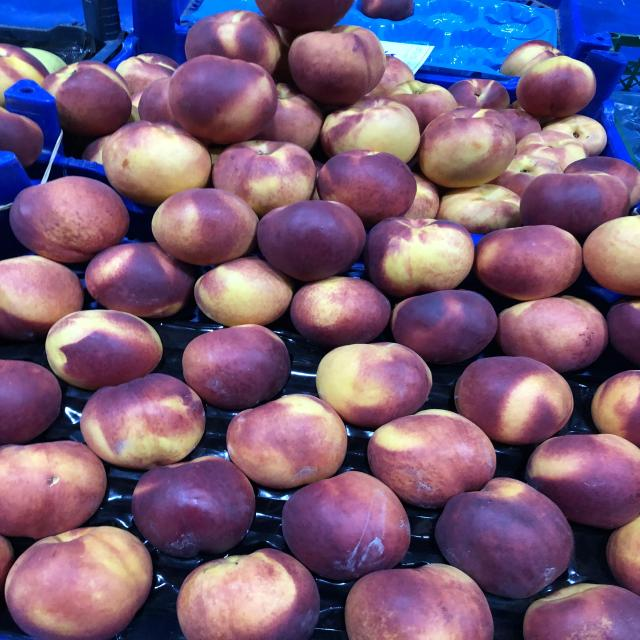peach: (5, 526, 152, 640), (282, 471, 410, 581), (177, 548, 320, 640), (368, 410, 496, 508), (226, 394, 347, 489), (9, 177, 129, 263), (316, 343, 432, 428), (168, 55, 278, 144), (183, 325, 290, 409), (364, 218, 474, 297), (475, 225, 582, 301), (212, 140, 316, 217)
